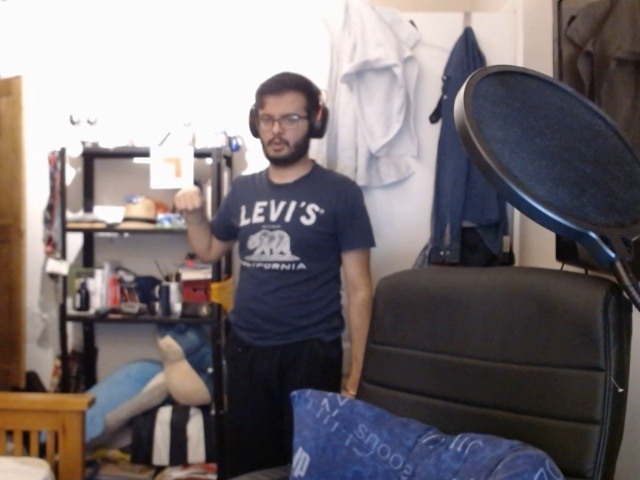Yes: (168, 181, 215, 222)
